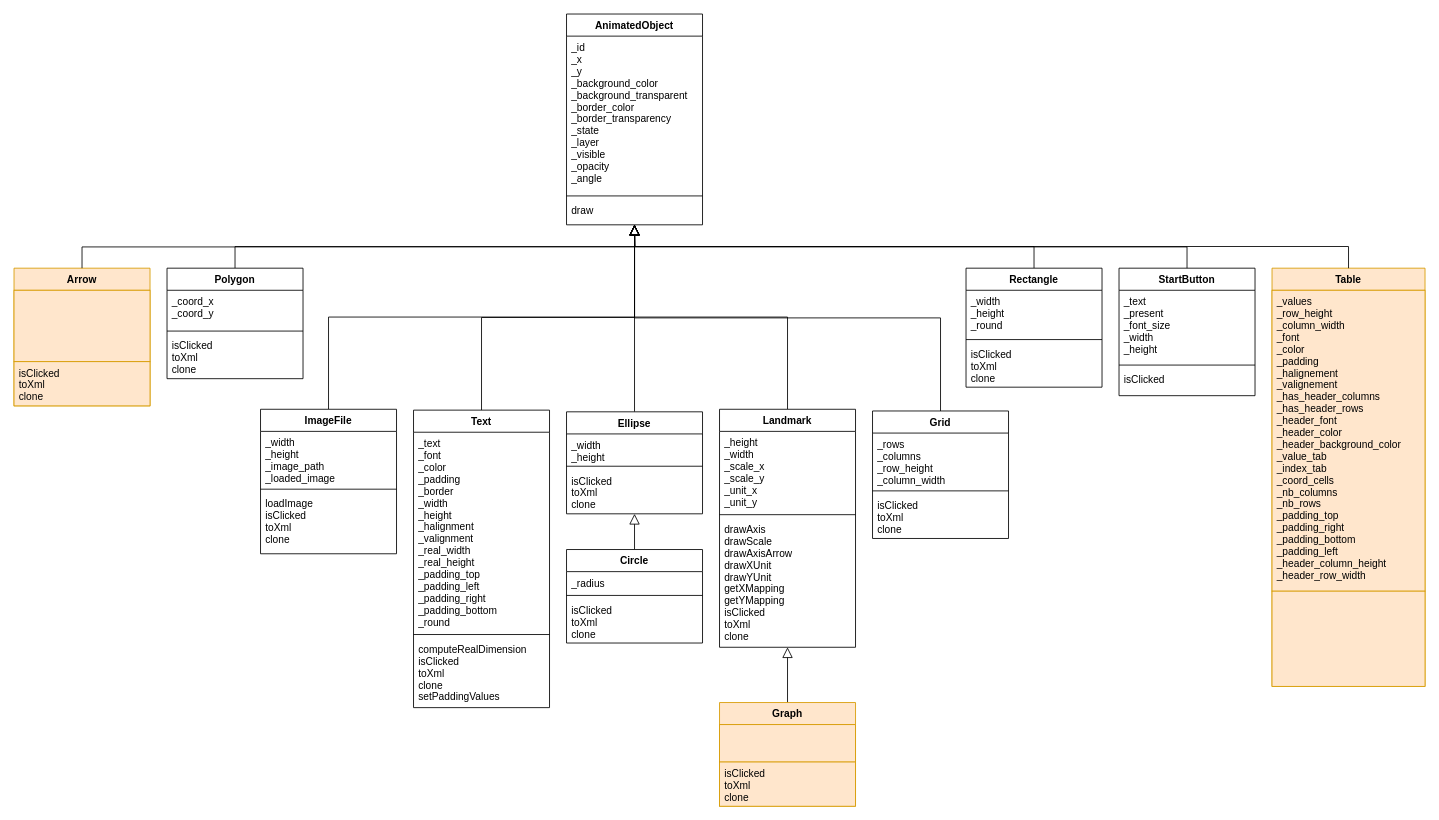
The diagram is 1439 pixels wide and 820 high, and some of its shapes have lost their labels. The centre of each missing label's shape, as x and y in pixels:
"_algorithmic_function _draw_point" goes at pixel 787 743.
"_width_line _height_line _width_triangle _height_triangle _rotation" goes at pixel 81 325.
"drawText isClicked toXml clone fillValueTab fillCoordCells setPaddingValues" goes at pixel 1348 638.
